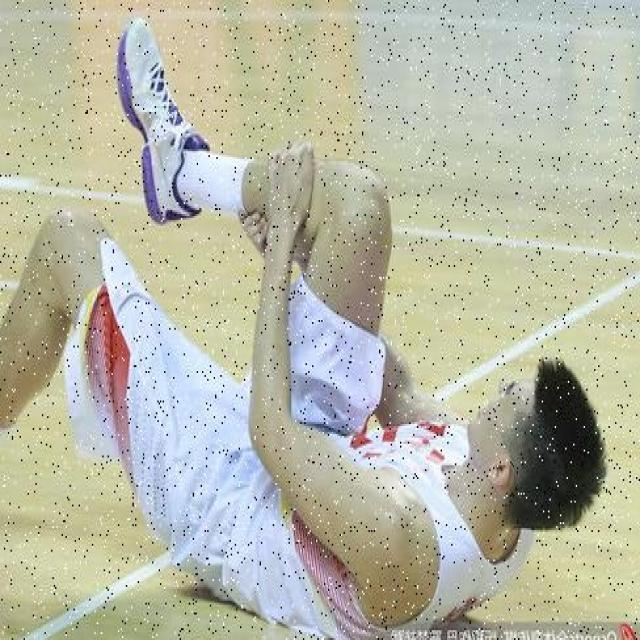fall: (17, 122, 609, 597)
